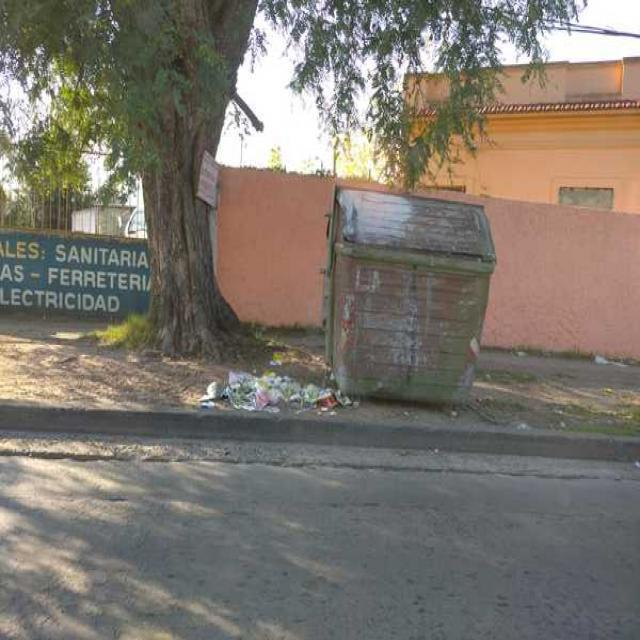garbage: (198, 354, 342, 426), (194, 135, 216, 211), (591, 345, 634, 373)
